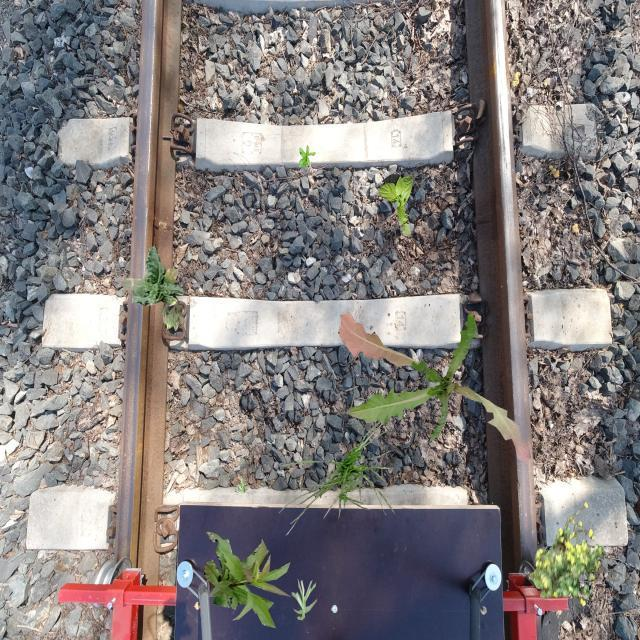Plant: (338, 311, 530, 463), (279, 414, 398, 536), (204, 531, 292, 628), (530, 502, 605, 607), (121, 244, 184, 306), (378, 174, 414, 236), (291, 579, 318, 621), (159, 300, 185, 332), (299, 146, 316, 170), (234, 477, 248, 492)
